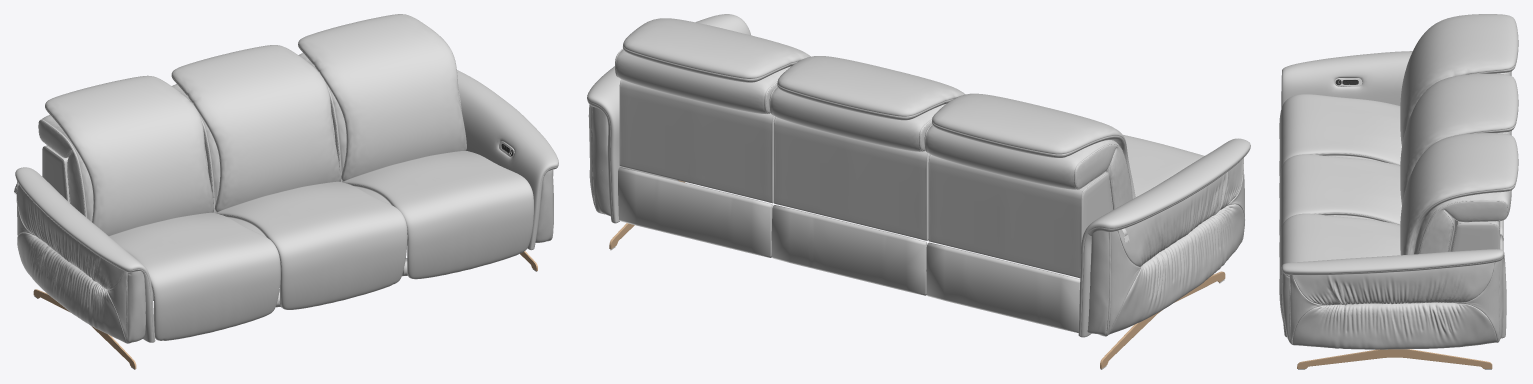
The model's file is SBH_HUDSON_3_Seater.glb.
The picture shows the model from 3 angles, left to right: view 1: azimuth 30°, elevation 25°; view 2: azimuth 150°, elevation 25°; view 3: azimuth 270°, elevation 25°; orthographic projection. The views are drawn at different scales.
Visible parts, largest first — view 1: HUDSON_3_Seater; view 2: HUDSON_3_Seater; view 3: HUDSON_3_Seater.
Part boxes in pixels (x1,y1,x2,y2): HUDSON_3_Seater: (14, 14, 558, 369); HUDSON_3_Seater: (587, 14, 1250, 369); HUDSON_3_Seater: (1279, 14, 1518, 369).
Size of the model in its own units: 2.35 by 0.9094 by 1.1.
